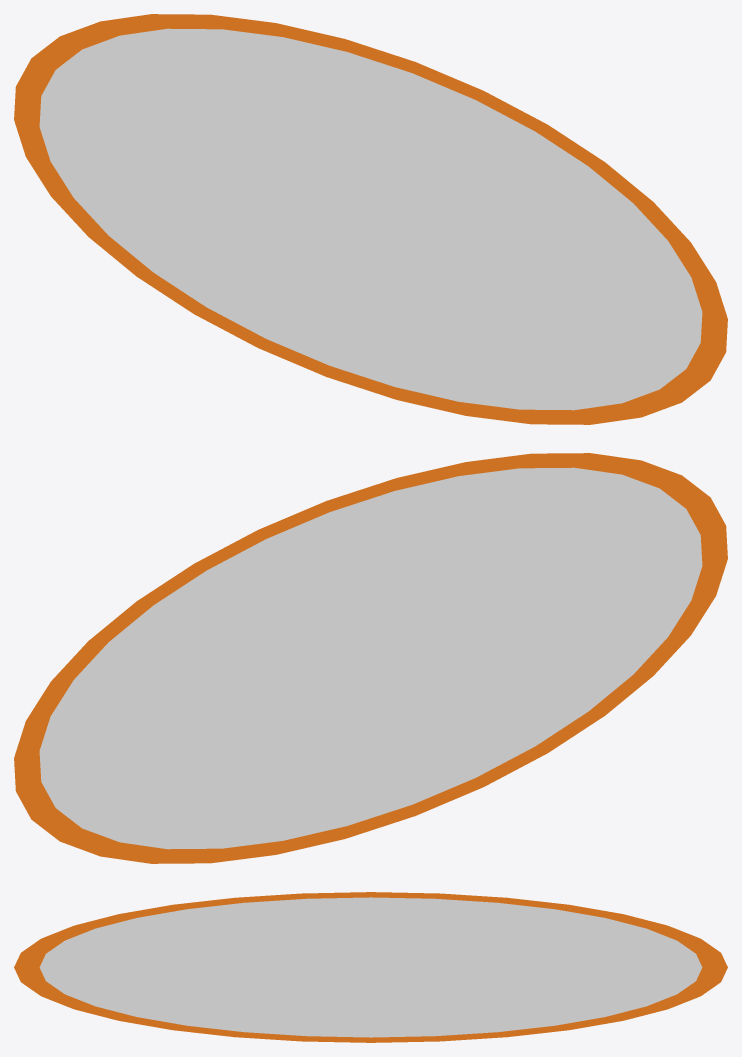
Rendered from Orange.fbx.
The picture shows the model from 3 angles, top to bottom: view 1: azimuth 30°, elevation 25°; view 2: azimuth 150°, elevation 25°; view 3: azimuth 270°, elevation 25°; orthographic projection. The views are drawn at different scales.
Visible parts, largest first — view 1: Blue.001; view 2: Blue.001; view 3: Blue.001.
Part boxes in pixels (x1=…): Blue.001: x1=14, y1=14, x2=727, y2=424; Blue.001: x1=14, y1=453, x2=727, y2=863; Blue.001: x1=14, y1=892, x2=727, y2=1042.
Size of the model in its own units: 200 by 6.52e-05 by 400.
